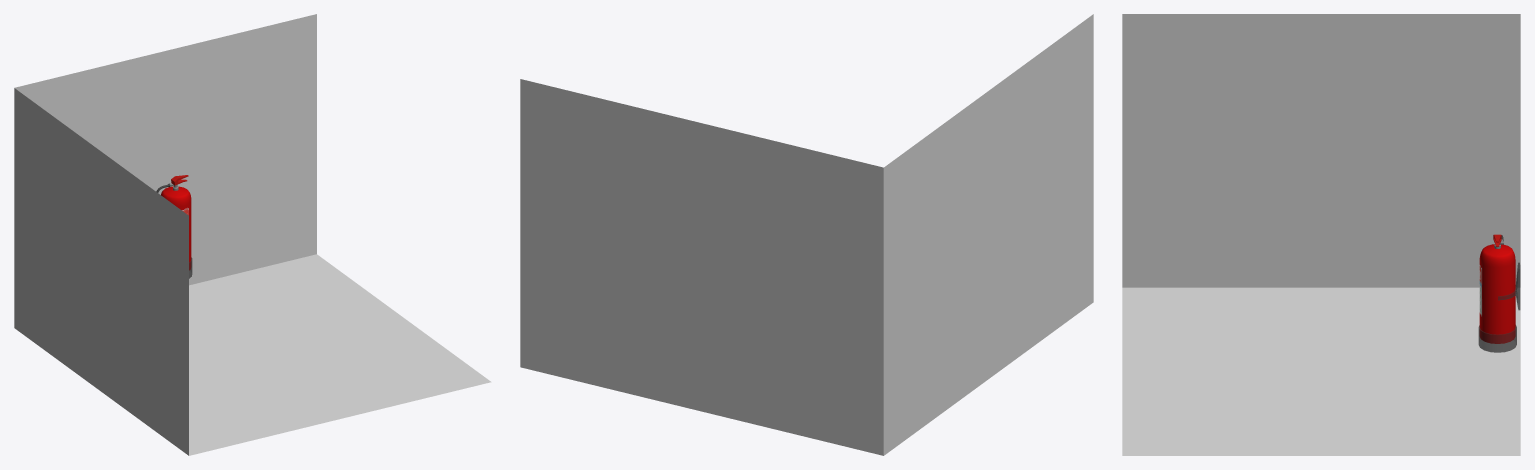
The model's file is APAR.fbx.
The picture shows the model from 3 angles, left to right: view 1: azimuth 30°, elevation 25°; view 2: azimuth 150°, elevation 25°; view 3: azimuth 270°, elevation 25°; orthographic projection. The views are drawn at different scales.
Parts seen in each view (by area): view 1: Plane, FireExtingusiher; view 2: Plane; view 3: Plane, FireExtingusiher.
Boxes of the visible parts, x1=… form: Plane: x1=14, y1=14, x2=491, y2=455; FireExtingusiher: x1=156, y1=175, x2=192, y2=278; Plane: x1=520, y1=14, x2=1093, y2=455; Plane: x1=1122, y1=14, x2=1520, y2=455; FireExtingusiher: x1=1478, y1=234, x2=1516, y2=352.
Bounding box in the file's own units: 2000 × 1517 × 2000.
Materials: 5 (1 with a texture image).
